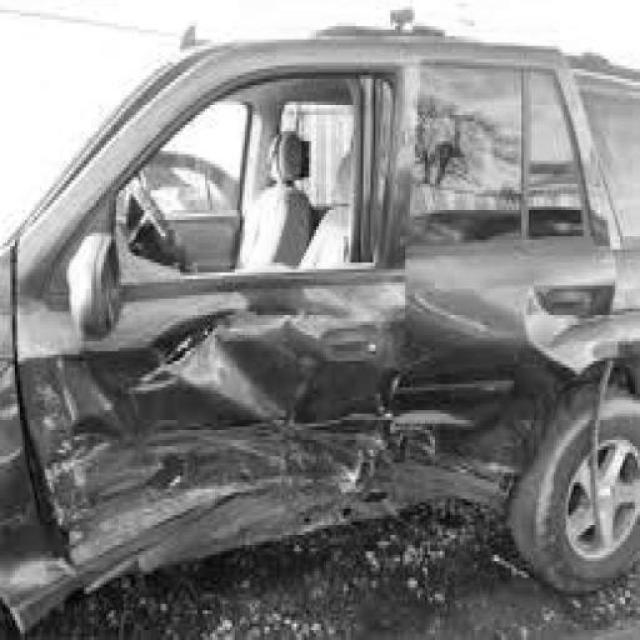car damage: (1, 269, 614, 633)
